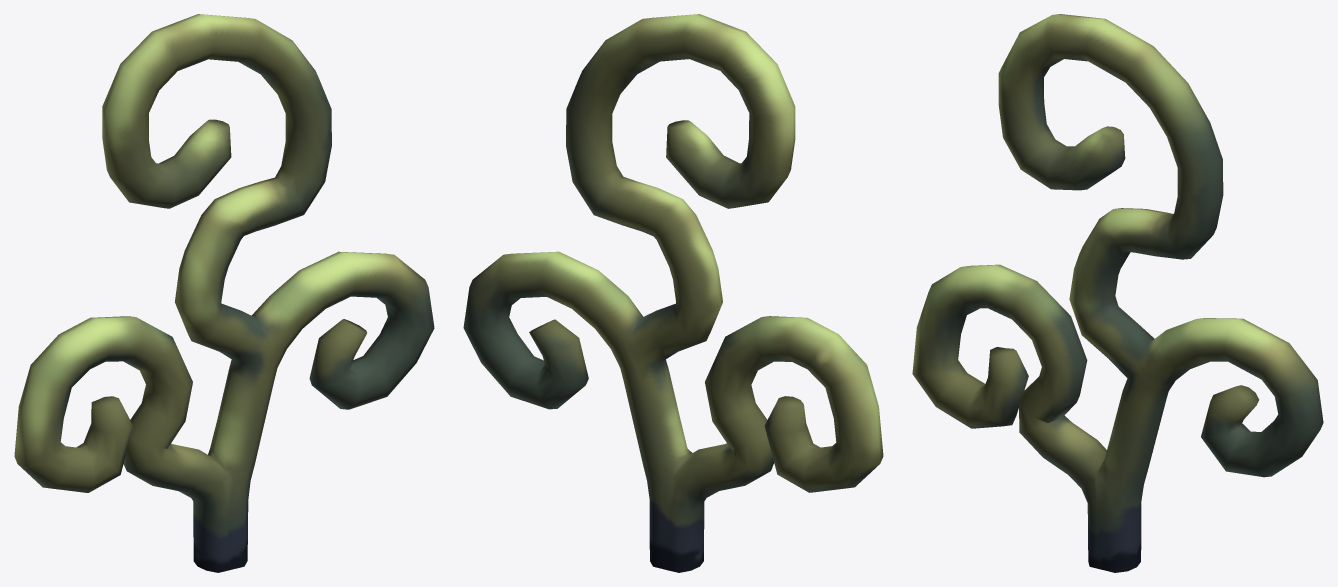
File: Bracken_T_02.FBX
3 views of the same model, side by side, from view 1: azimuth 30°, elevation 25°; view 2: azimuth 150°, elevation 25°; view 3: azimuth 330°, elevation 25° (orthographic). The views are drawn at different scales.
Visible parts, largest first — view 1: Line004; view 2: Line004; view 3: Line004.
Part boxes in pixels (x1=…): Line004: x1=14, y1=14, x2=434, y2=572; Line004: x1=463, y1=14, x2=883, y2=572; Line004: x1=912, y1=14, x2=1323, y2=572.
Size of the model in its own units: 65.61 by 83.29 by 6.9.
